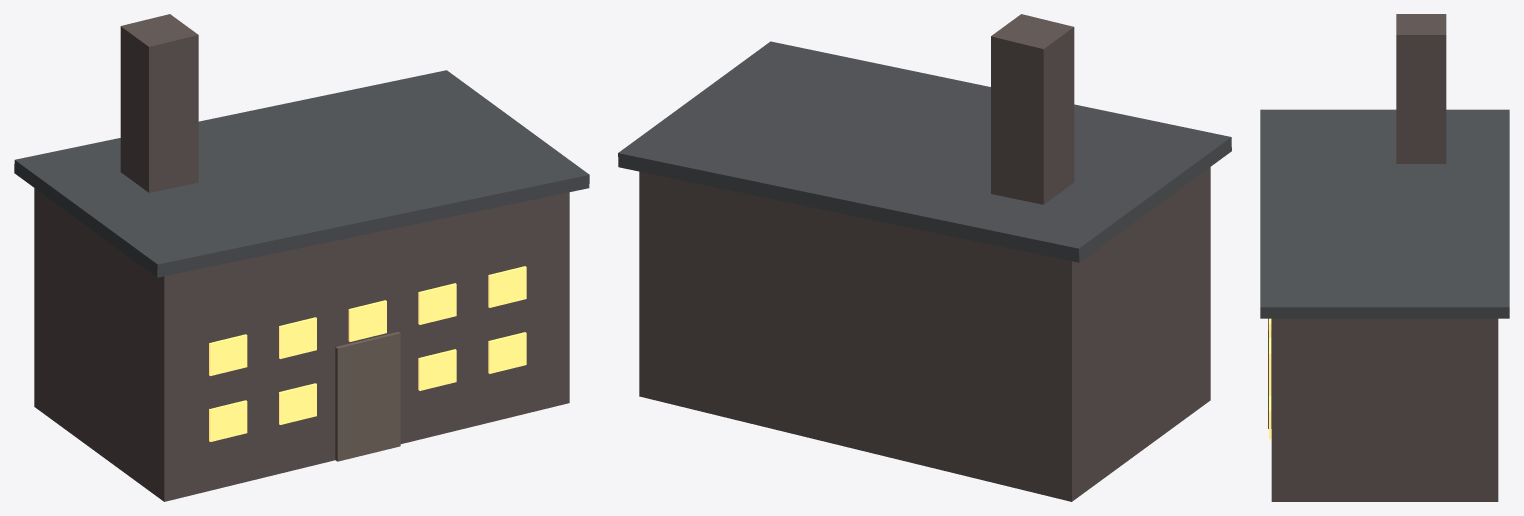
File: haunted-roastery.glb
3 renders of one model, left to right at view 1: azimuth 30°, elevation 25°; view 2: azimuth 150°, elevation 25°; view 3: azimuth 270°, elevation 25°, orthographic. The views are drawn at different scales.
Parts seen in each view (by area): view 1: factory_body, roof, chimney, loading_door, window_1_2, window_0_0, window_0_4, window_1_0, window_1_4, window_0_3, window_1_3, window_0_1 (+1 smaller); view 2: factory_body, roof, chimney; view 3: roof, factory_body, chimney.
Part boxes in pixels (box(x1,y1,x2,y2)): factory_body: box(34, 188, 569, 501); roof: box(14, 70, 589, 277); chimney: box(120, 14, 198, 192); loading_door: box(335, 331, 400, 461); window_1_2: box(348, 300, 386, 341); window_0_0: box(209, 400, 247, 441); window_0_4: box(488, 332, 526, 373); window_1_0: box(209, 334, 247, 375); window_1_4: box(488, 266, 526, 307); window_0_3: box(418, 349, 456, 390); window_1_3: box(418, 283, 456, 324); window_0_1: box(279, 383, 316, 424); factory_body: box(639, 167, 1210, 501); roof: box(618, 41, 1231, 262); chimney: box(991, 14, 1074, 204); roof: box(1260, 109, 1509, 318); factory_body: box(1271, 318, 1498, 501); chimney: box(1396, 14, 1446, 163).
Bounding box in the file's own units: 9.6 × 8.25 × 5.5.
